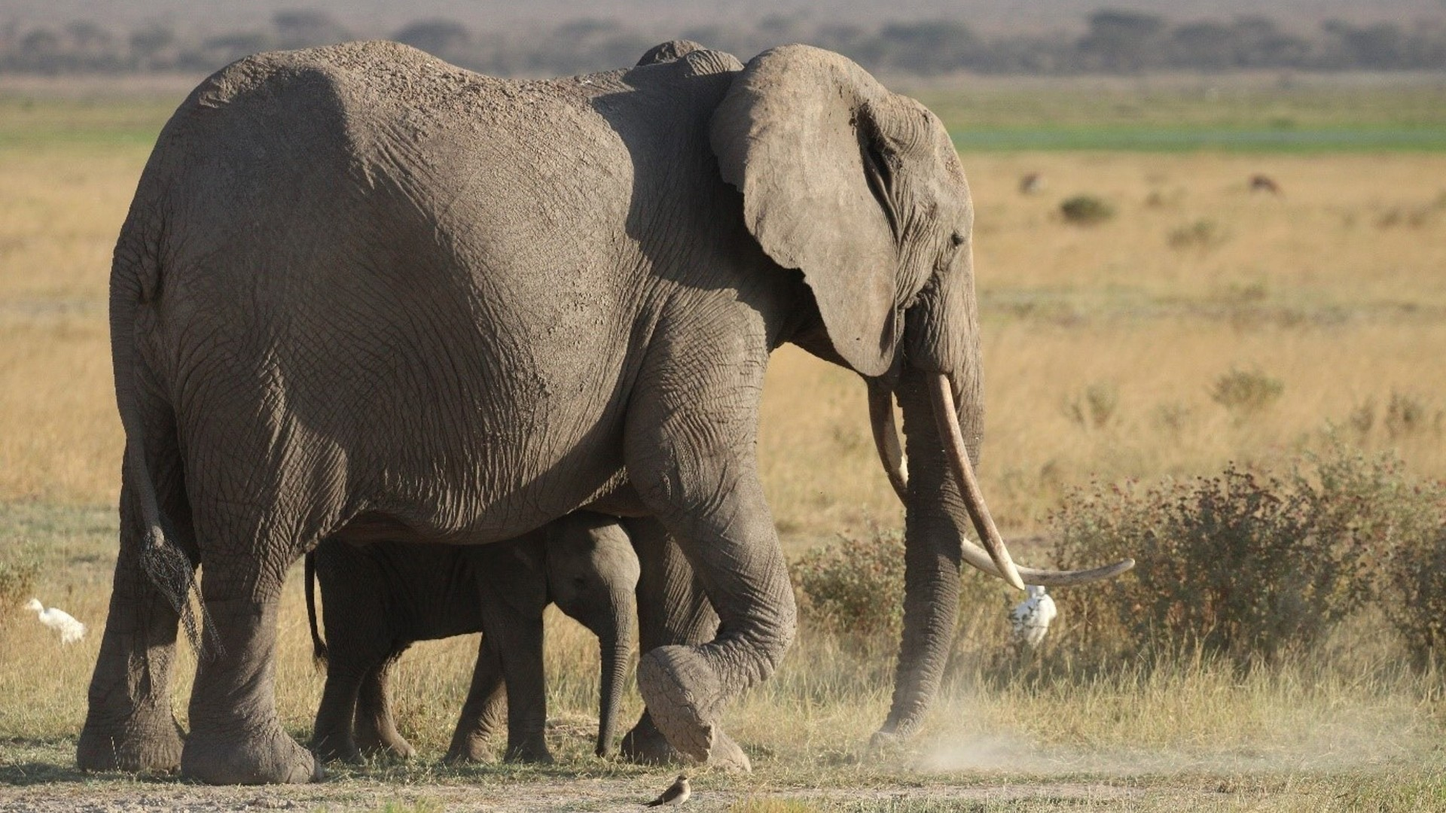elephant: (78, 42, 1127, 782), (306, 511, 638, 761)
